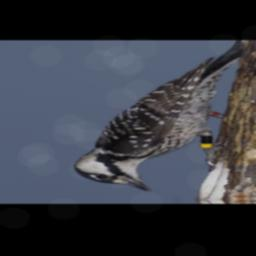Woodpecker: (55, 41, 256, 194)
